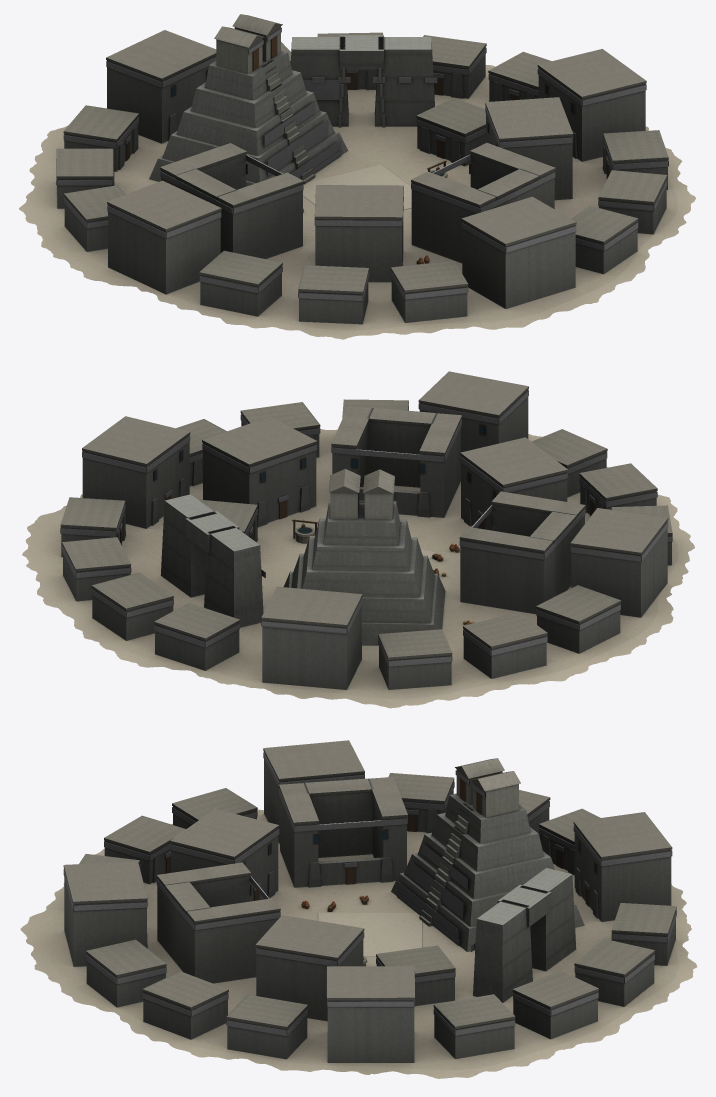
Rendered from kingdoms-town-big-a-americas-7dde9905.glb.
3 renders of one model, top to bottom at view 1: azimuth 30°, elevation 25°; view 2: azimuth 150°, elevation 25°; view 3: azimuth 270°, elevation 25°, orthographic.
Visible parts, largest first — view 1: LOD0; view 2: LOD0; view 3: LOD0.
Boxes of the visible parts, left/top/right/bottom form: LOD0: left=19, top=14, right=695, bottom=339; LOD0: left=22, top=371, right=694, bottom=708; LOD0: left=20, top=740, right=697, bottom=1078.
Size of what is drawn, in the model's own units: 8 by 1.81 by 7.95.
3 materials, 3 textured.
